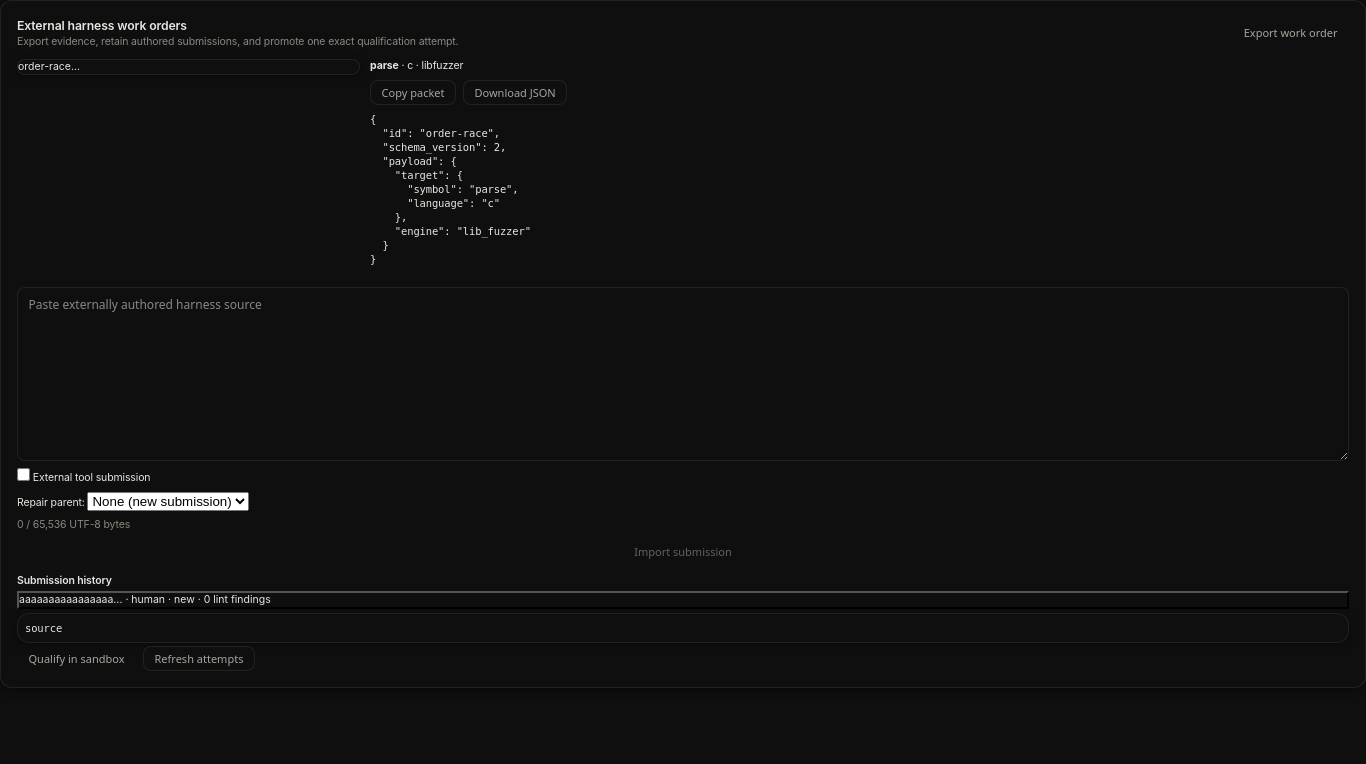
expert workflow panels › does not let an older retained-attempt read erase a new qualification
What coordinates should you click on to do the following:
click the button "Qualify in sandbox"
I would click on:
 (76, 659)
Its box is [17,646,136,671].
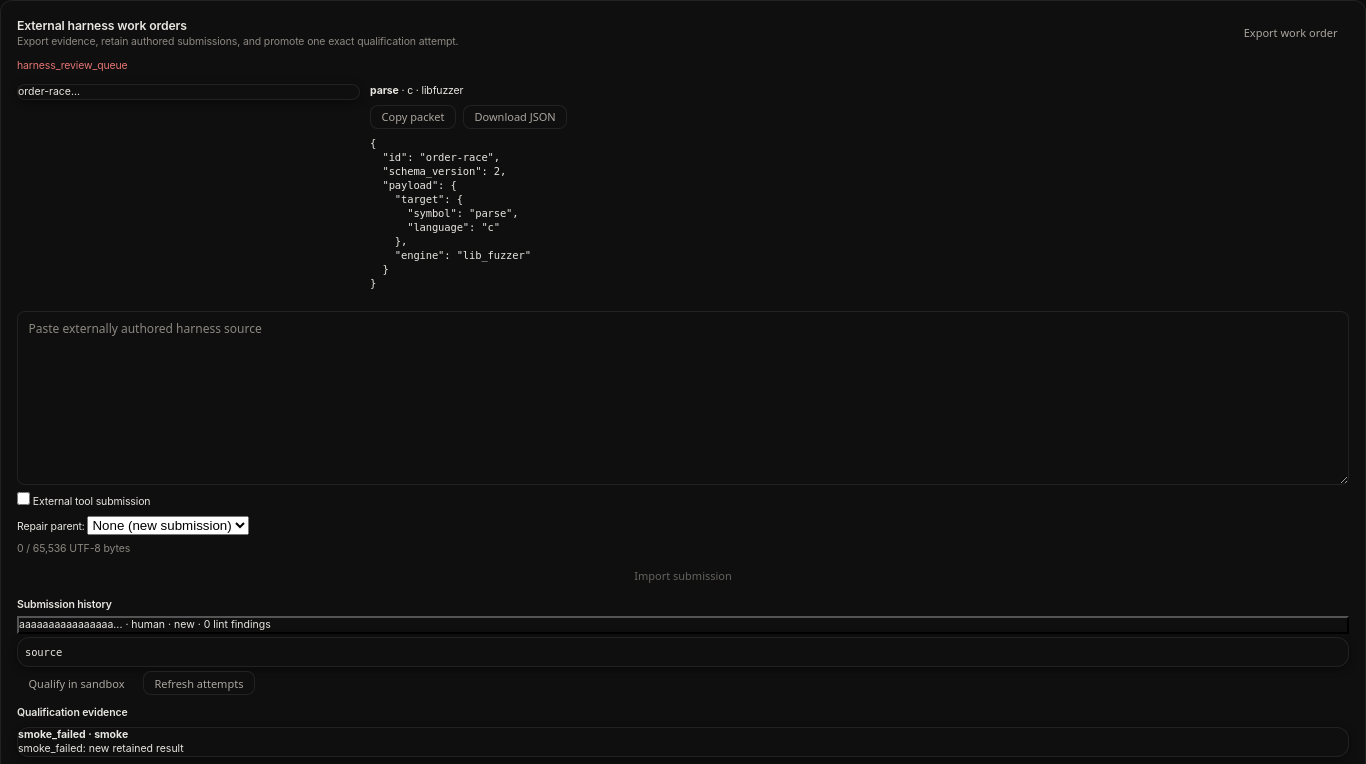
expect the text "new retained result" is shown: met, box [17,727,1349,757]
